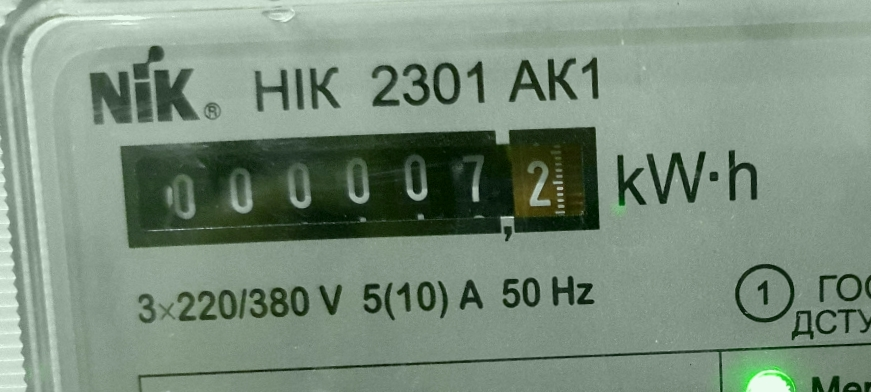0: (222, 162, 258, 215), (398, 150, 432, 204), (340, 152, 373, 207), (282, 157, 315, 211), (166, 169, 200, 221)
2: (522, 157, 554, 209)
7: (457, 149, 488, 205)
screen: (101, 106, 620, 268)
